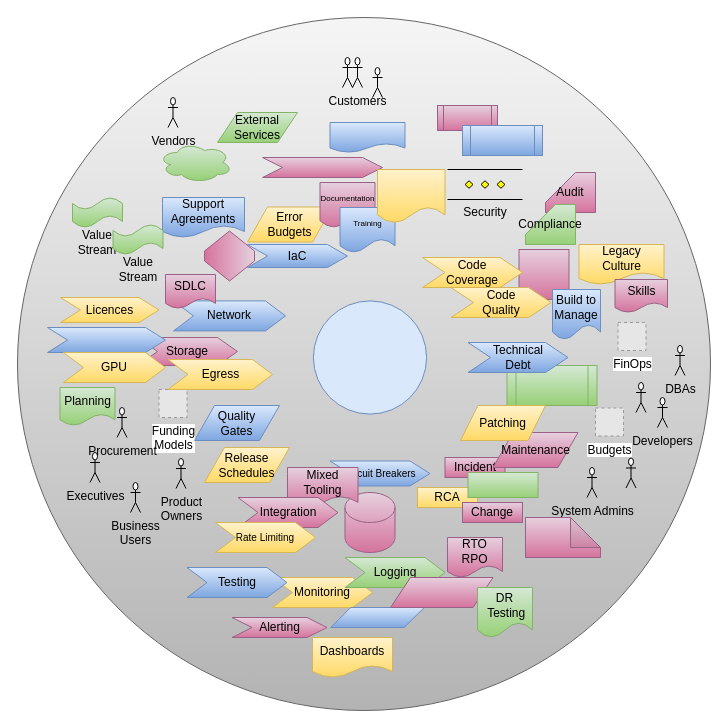
This 728x728 diagram has some shape labels left out. Grey dashed boxes stand in for pictures. Each missing label, with the centre of its shape:
Accessibility: point 367,137
Architecture: point 562,537
Automation: point 377,617
Automation Tools: point 441,592
Cloud: point 195,162
Compute: point 106,339
Data Fabric: point 369,522
Knowledge Management: point 410,195
Legacy Code: point 543,274
OnCall: point 467,117
Performance: point 322,167
Problem: point 502,485
Processes: point 551,385
Resource Density: point 502,140
Site Reliability: point 369,357
SLO: point 229,255
